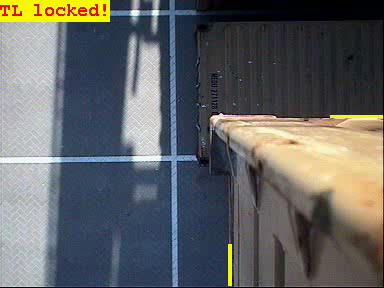groundmarker_2: (127, 216, 178, 251), (129, 152, 180, 186)
